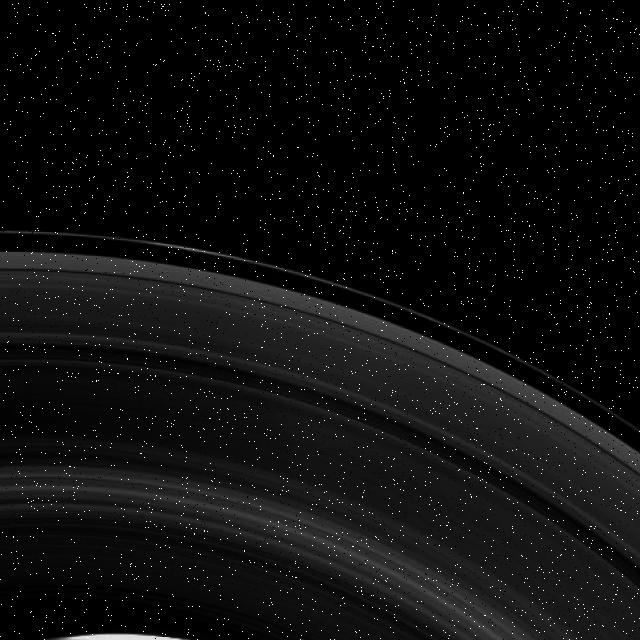Saturn: (0, 227, 640, 640)
